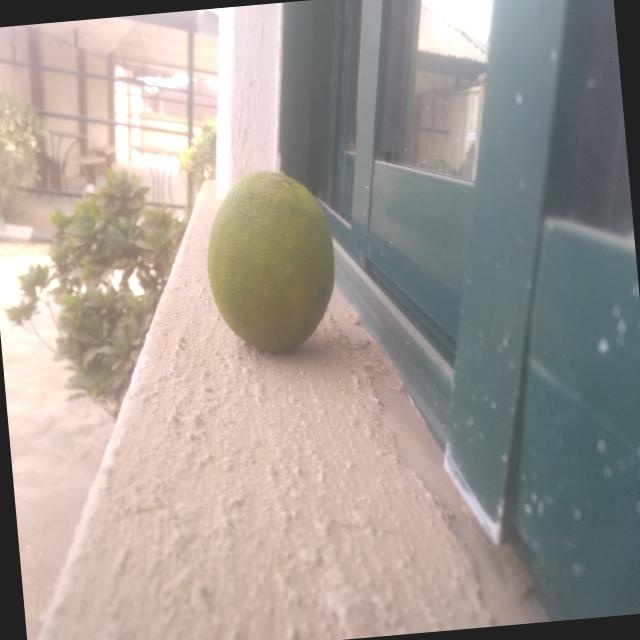agrume: (192, 112, 355, 408)
